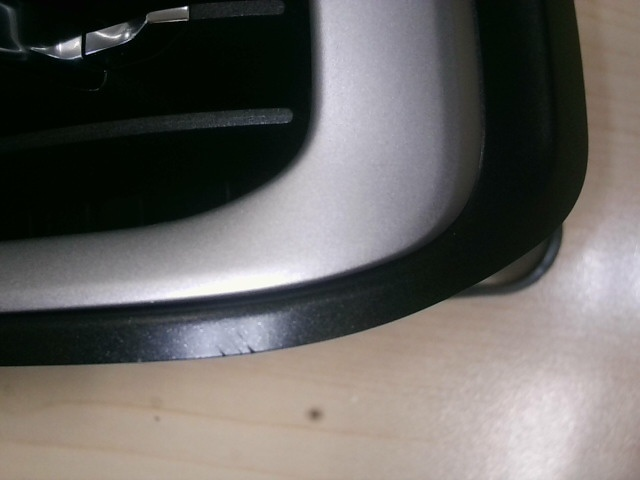NG: (355, 139, 422, 191), (205, 323, 269, 365)
